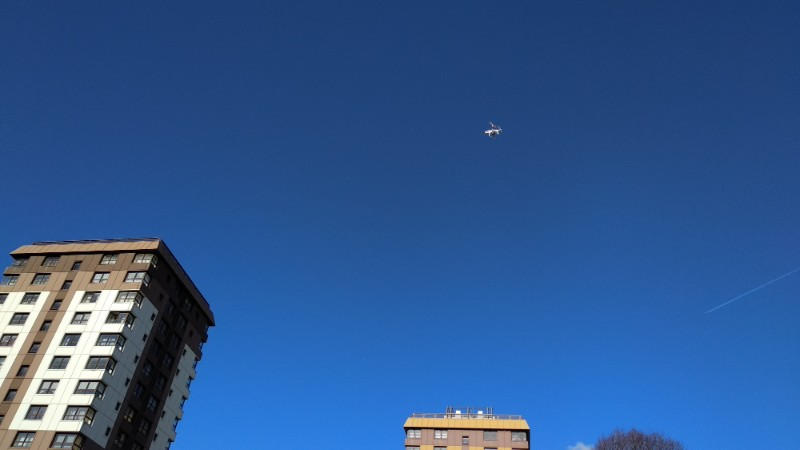drone: (481, 119, 504, 141)
